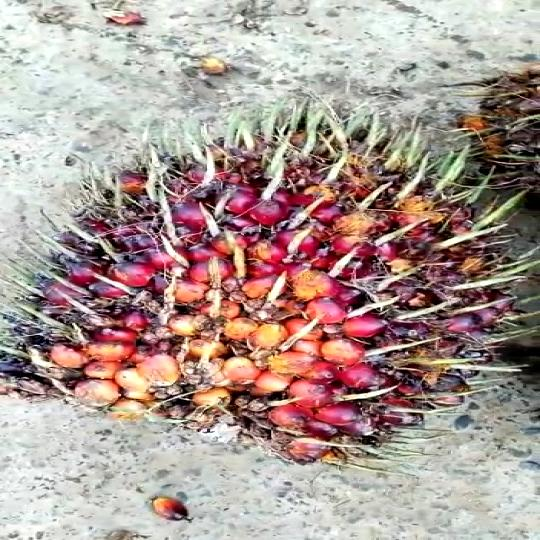masak: (19, 100, 532, 457)
